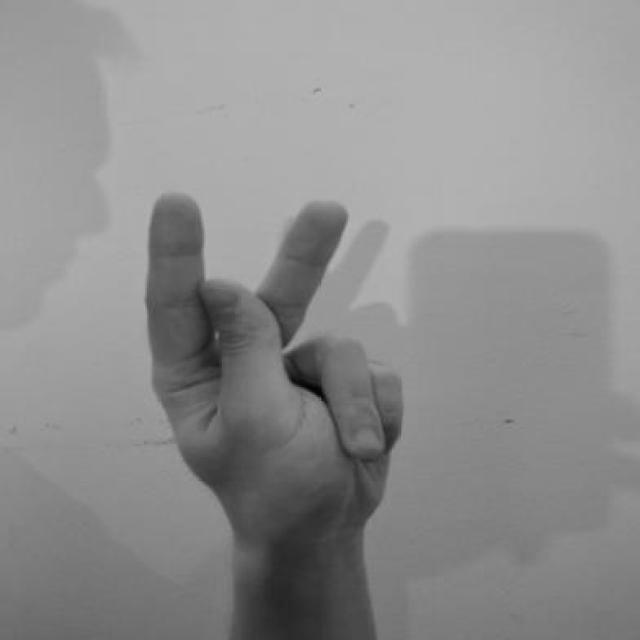K: (125, 181, 419, 550)
